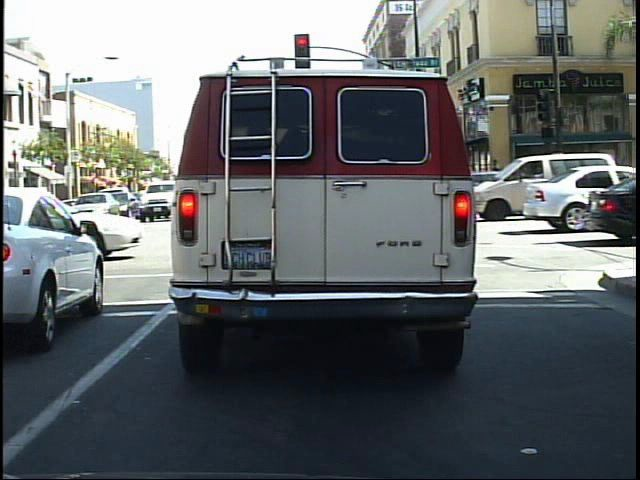person: (536, 154, 563, 216), (516, 157, 541, 215), (486, 156, 506, 214), (497, 163, 516, 212)
